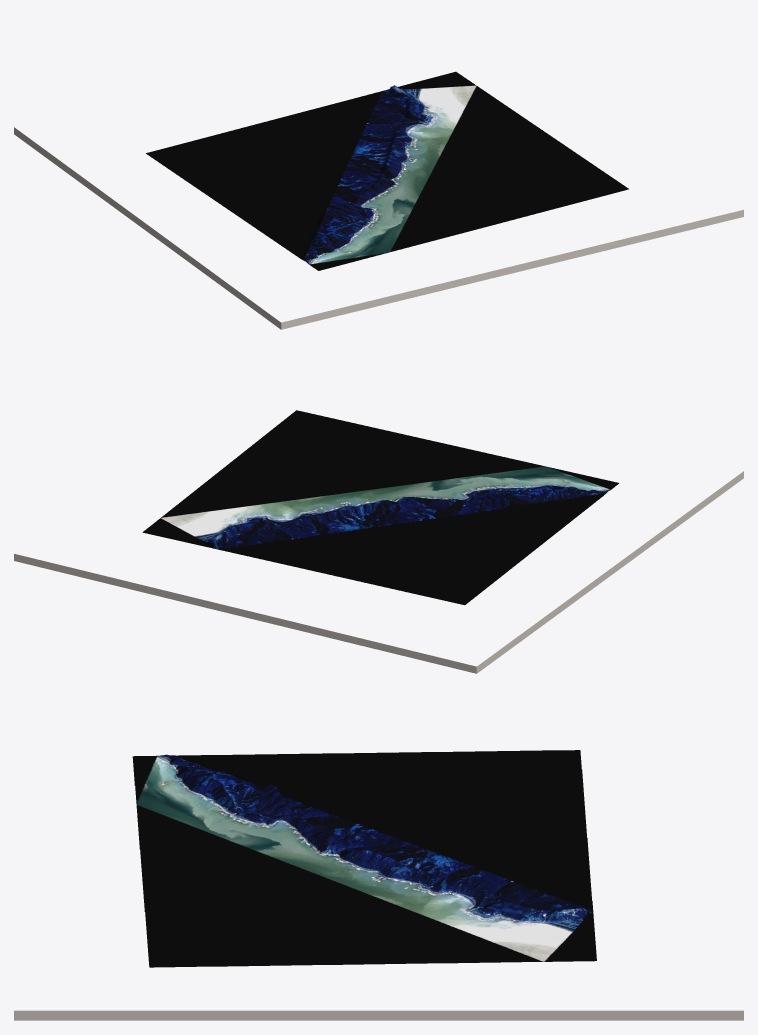
Rendered from export_kaikoura_2.gltf.
The picture shows the model from 3 angles, top to bottom: view 1: azimuth 30°, elevation 25°; view 2: azimuth 150°, elevation 25°; view 3: azimuth 270°, elevation 25°; orthographic projection. The views are drawn at different scales.
Visible parts, largest first — view 1: Clipped (mask), side (×2); view 2: Clipped (mask), side (×2); view 3: Clipped (mask), side.
Boxes of the visible parts, x1,y1,x2,y2 form: Clipped (mask): (146, 71, 628, 270); side (×2): (14, 127, 743, 329); Clipped (mask): (142, 410, 618, 605); side (×2): (14, 471, 743, 673); Clipped (mask): (132, 750, 596, 967); side: (14, 1010, 743, 1020).
Bounding box in the file's own units: 100 × 3.14 × 100.
2 materials, 1 textured.
